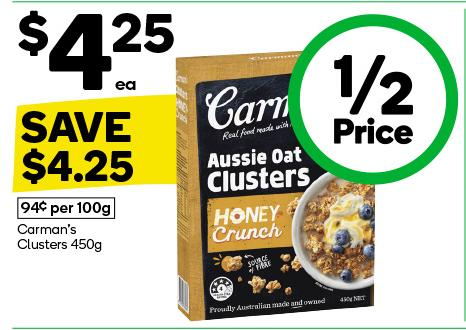description_block: (11, 222, 123, 262)
price_main: (2, 3, 180, 100)
product_image_block: (177, 42, 353, 322)
promo_text_block: (2, 103, 178, 189)
unit_price_block: (5, 190, 132, 223)
